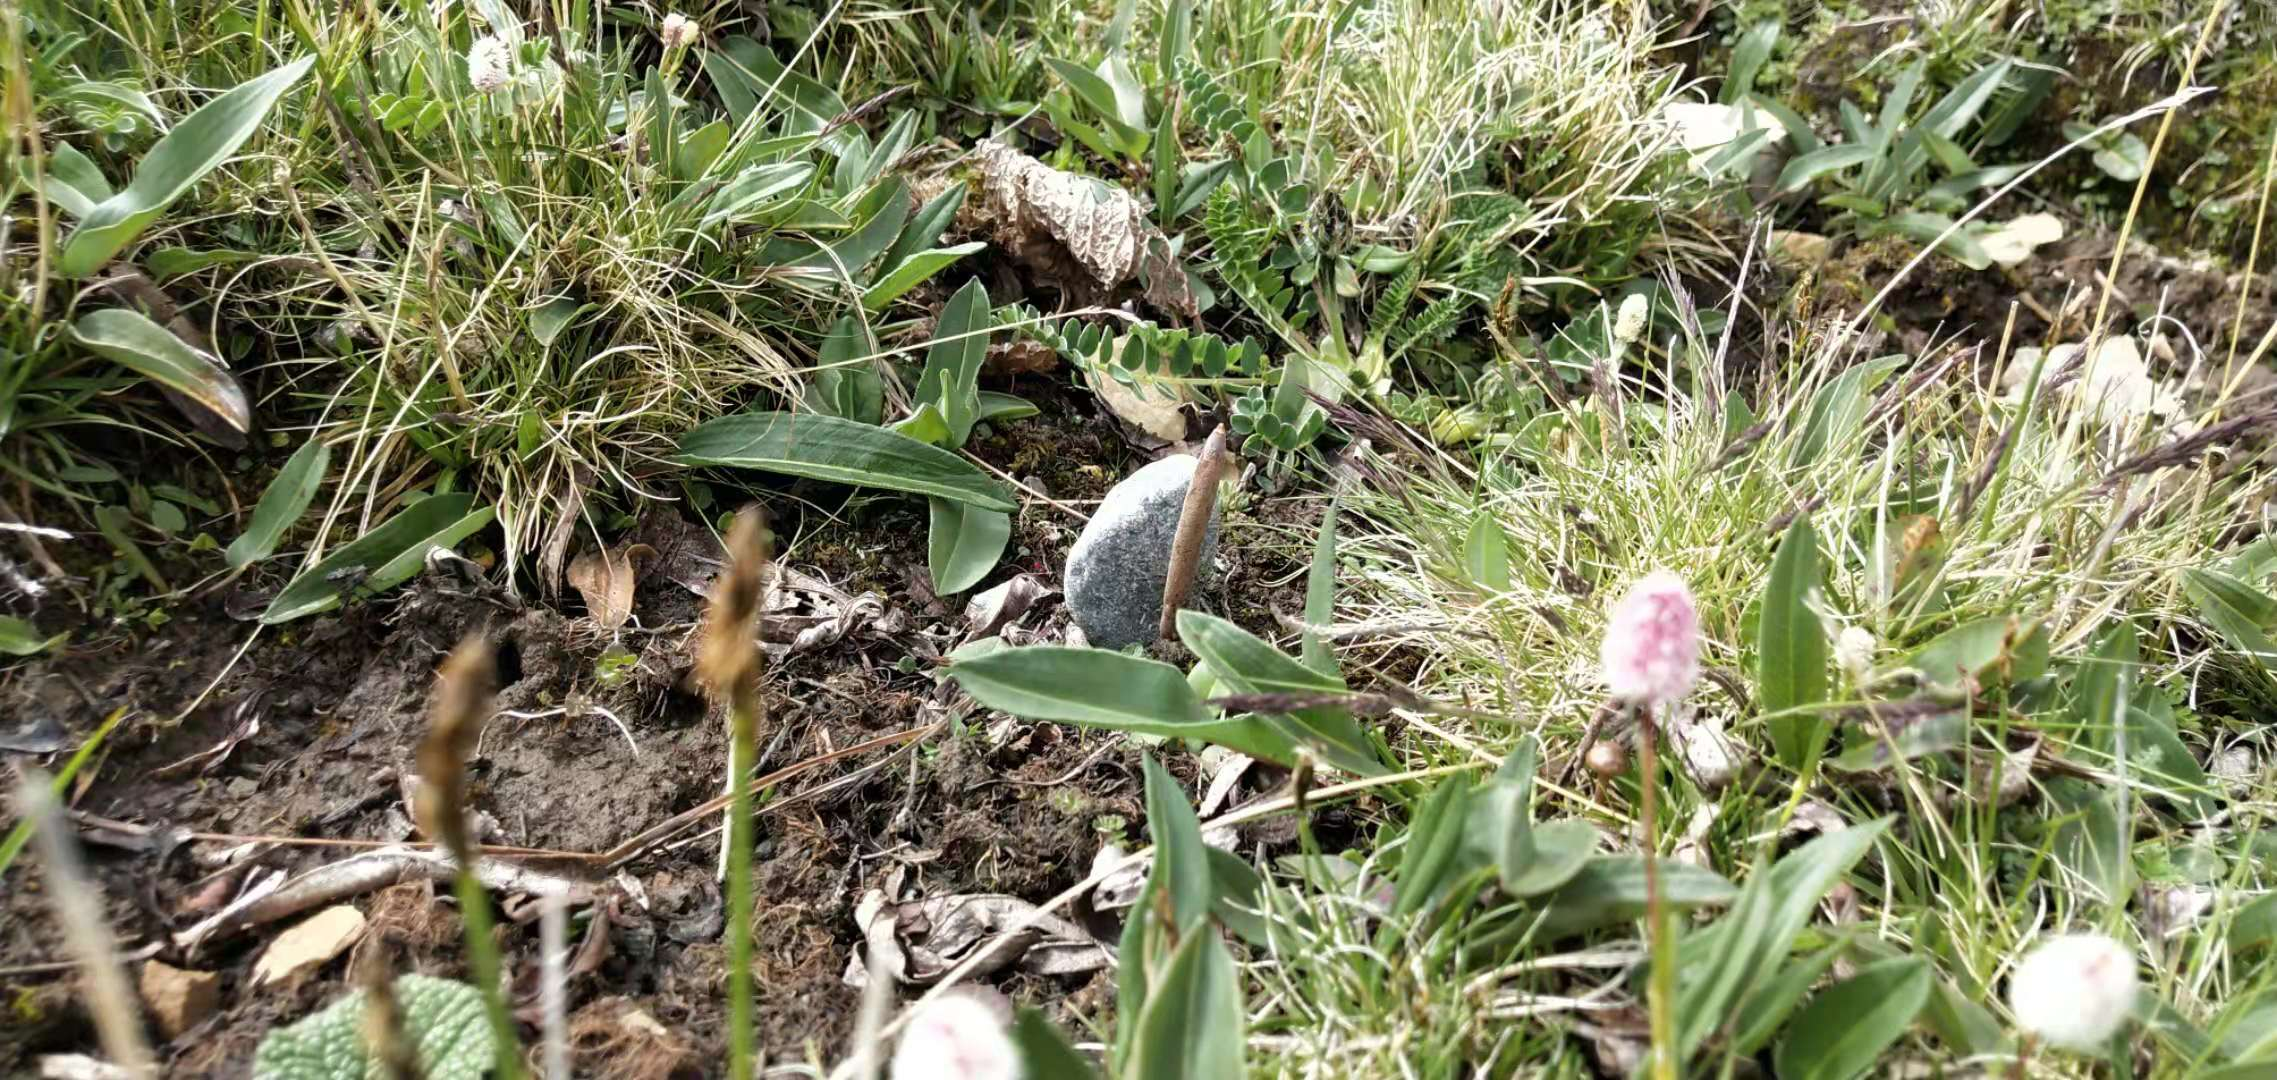cpf: (1154, 418, 1239, 646)
